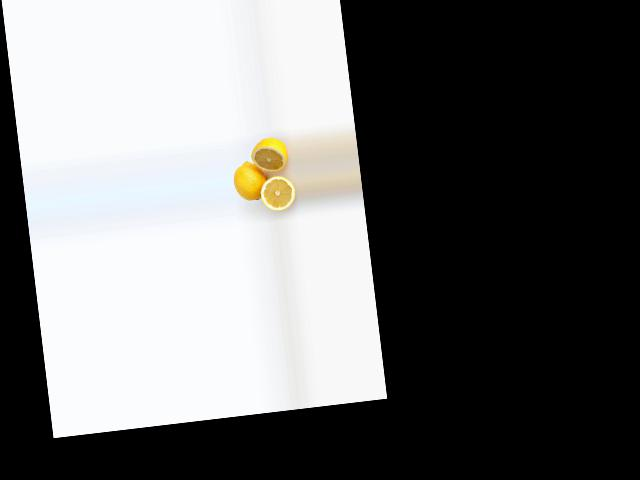lemon: (230, 156, 267, 206)
